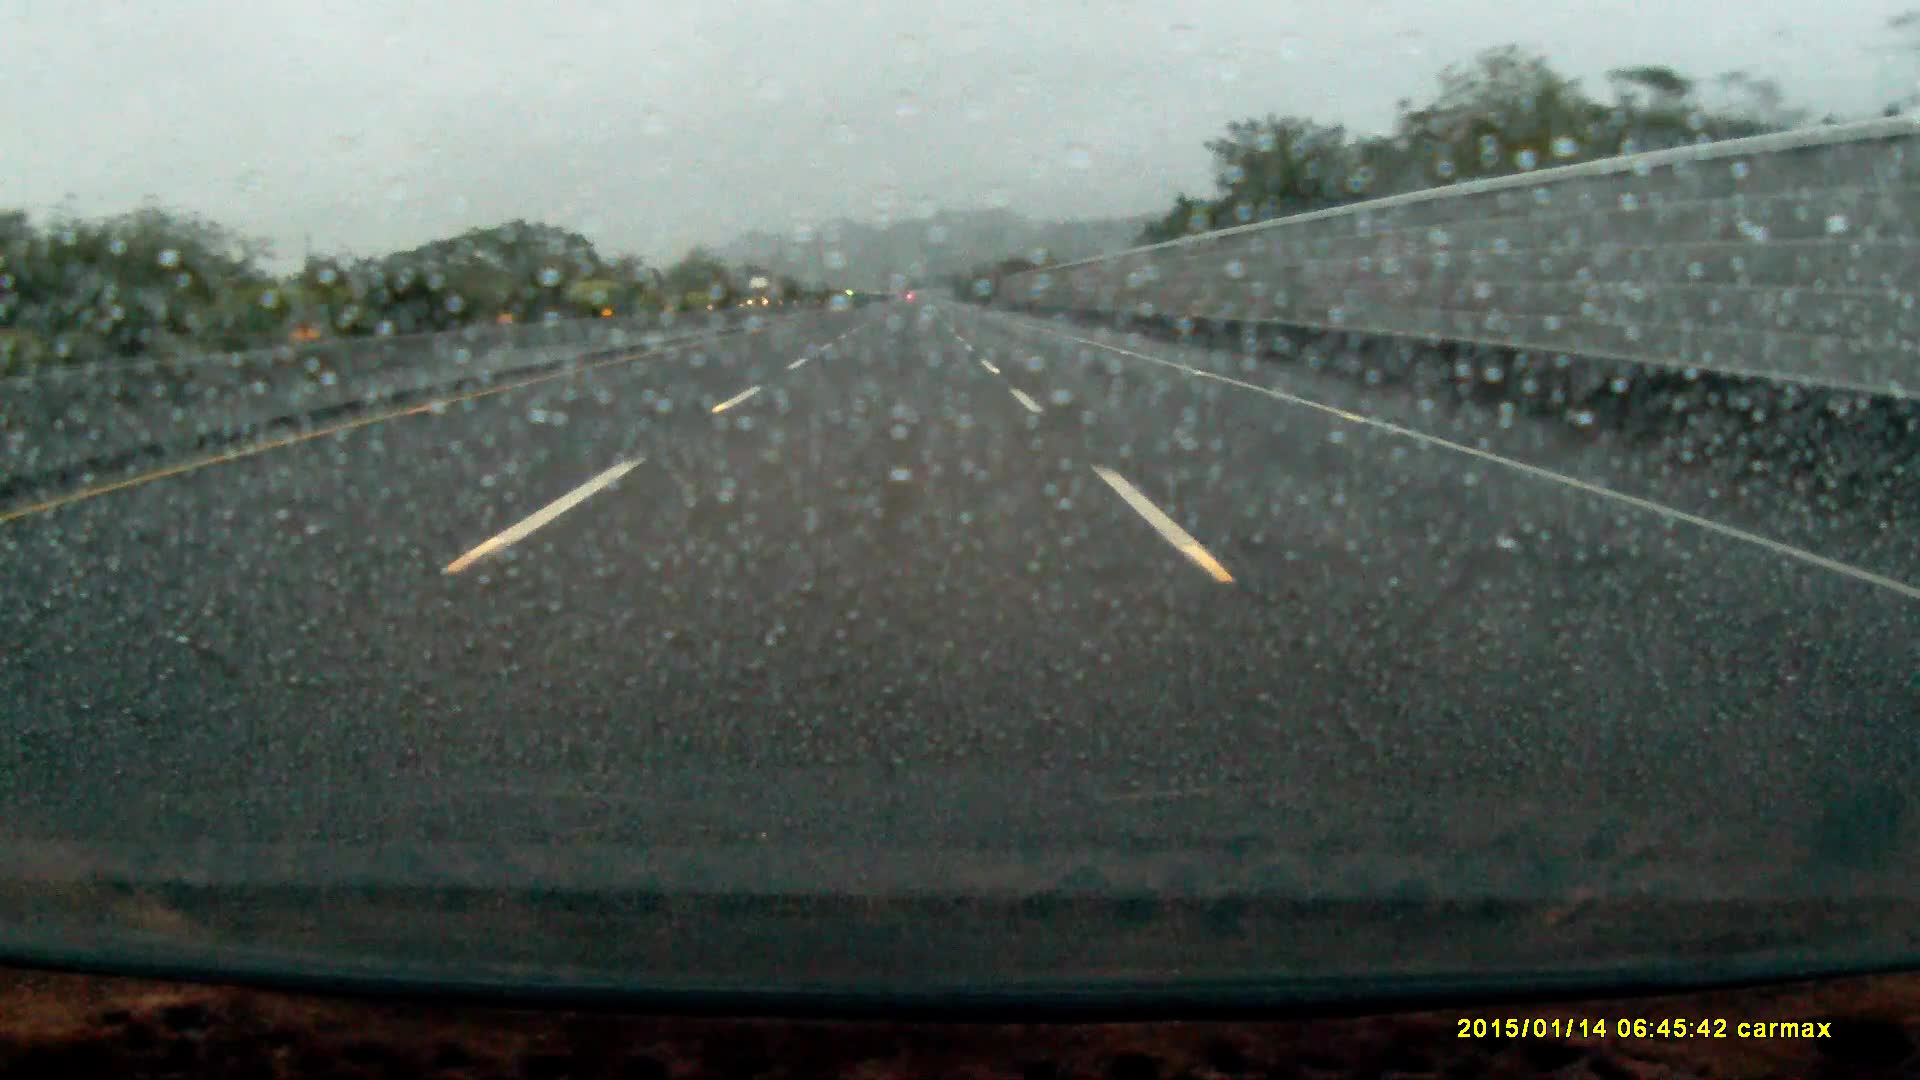vehicle: (746, 277, 778, 307)
